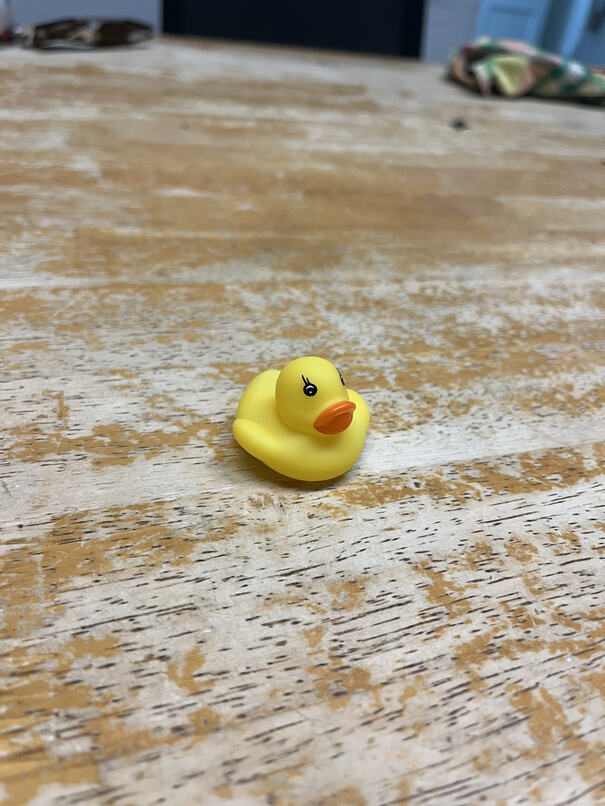duck_regular: (223, 353, 375, 485)
